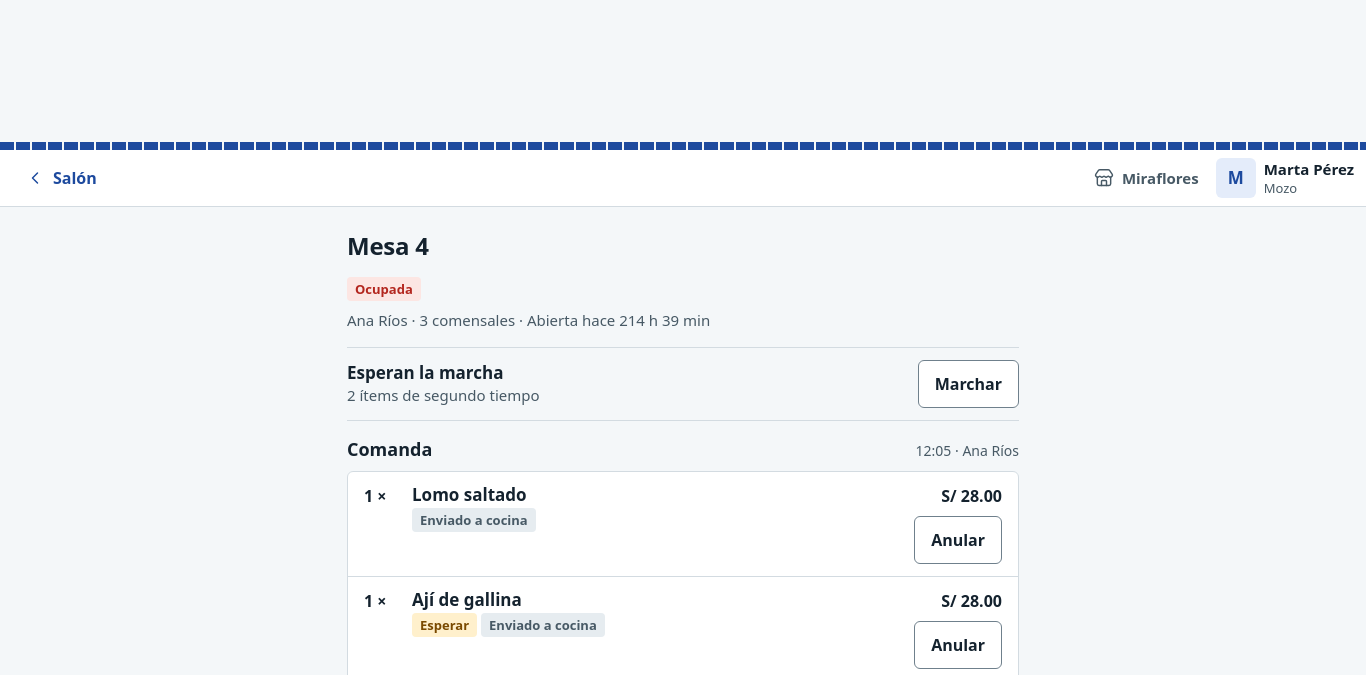
Marchar (criterios 32 y 33) › si otra persona ya marchó, lo dice y la cuenta se actualiza
(page scrolled)
Click the button "Marchar": (968, 384) left=918, top=360, right=1019, bottom=408
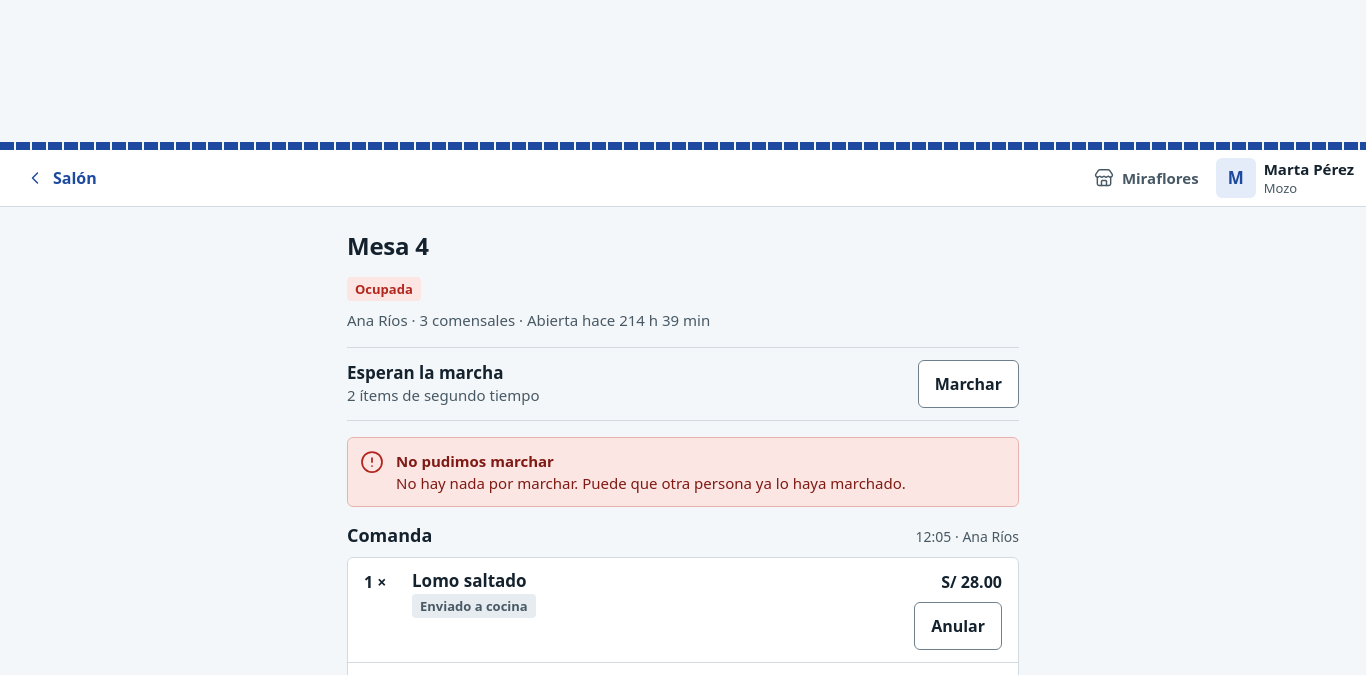
Check: the text "No hay nada por marchar" is shown, box left=396, top=473, right=906, bottom=493
